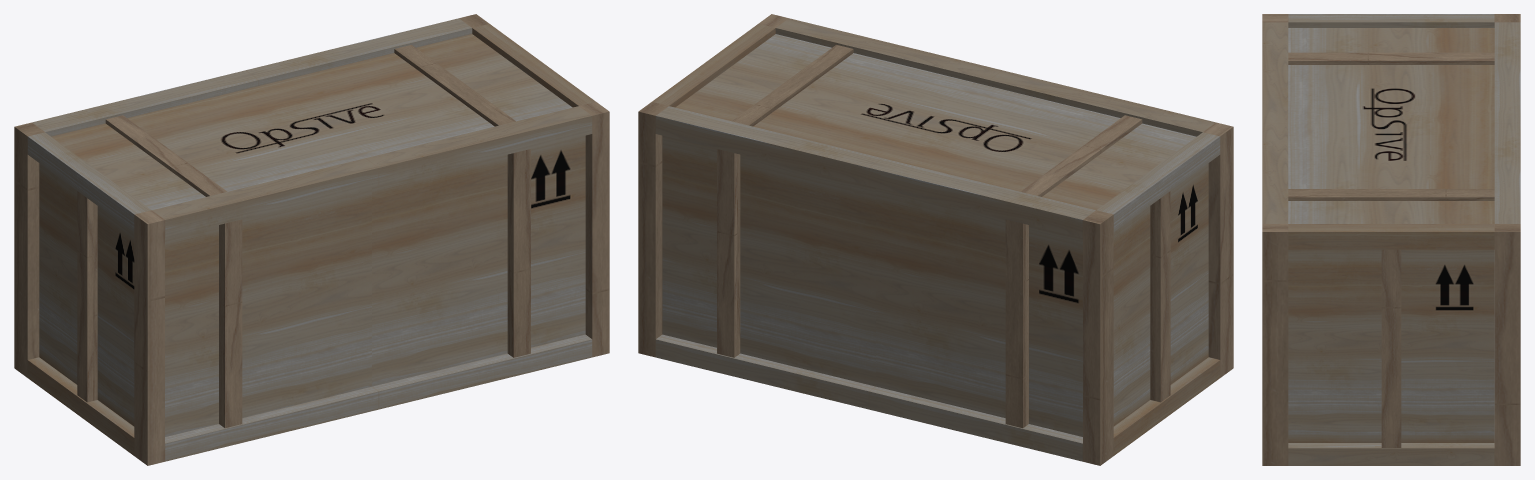
The model's file is Crate1Large.fbx.
3 renders of one model, left to right at view 1: azimuth 30°, elevation 25°; view 2: azimuth 150°, elevation 25°; view 3: azimuth 270°, elevation 25°, orthographic. The views are drawn at different scales.
Parts seen in each view (by area): view 1: Crate1Large; view 2: Crate1Large; view 3: Crate1Large.
Part boxes in pixels (x1=…): Crate1Large: x1=14, y1=14, x2=609, y2=465; Crate1Large: x1=638, y1=14, x2=1233, y2=465; Crate1Large: x1=1262, y1=14, x2=1520, y2=465.
Size of the model in its own units: 4 by 2 by 2.
